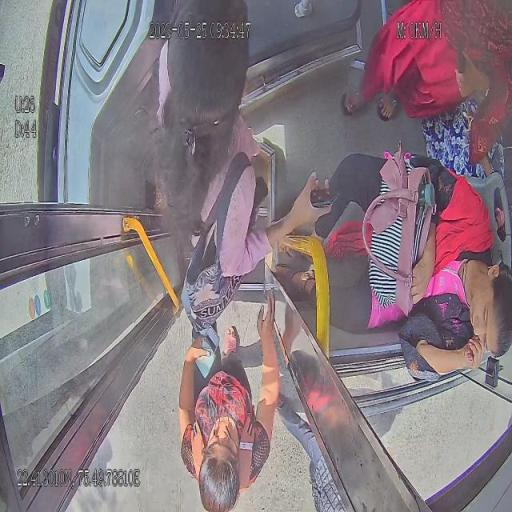persona: (272, 143, 511, 381), (150, 0, 336, 286), (178, 286, 280, 512), (343, 0, 512, 124), (280, 393, 358, 512)
